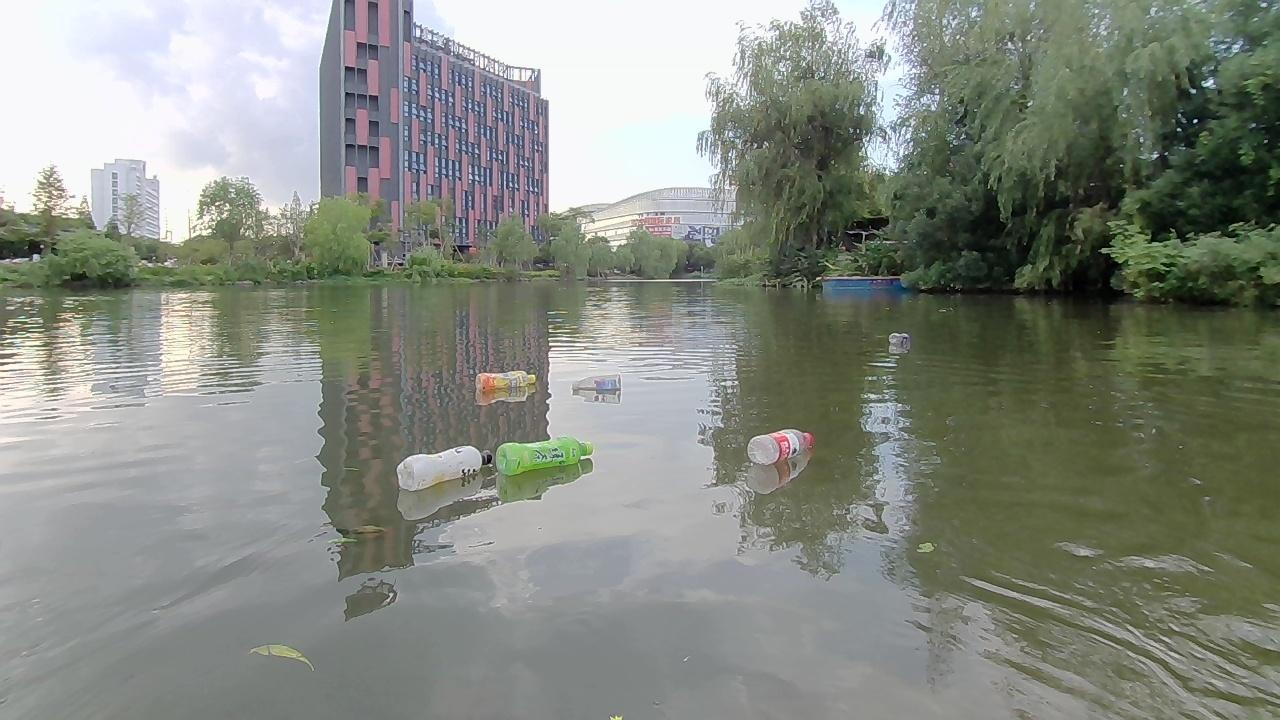bottle: (395, 443, 490, 492), (498, 441, 594, 472), (742, 424, 817, 463), (473, 365, 537, 395), (569, 374, 624, 394), (887, 330, 909, 352)
